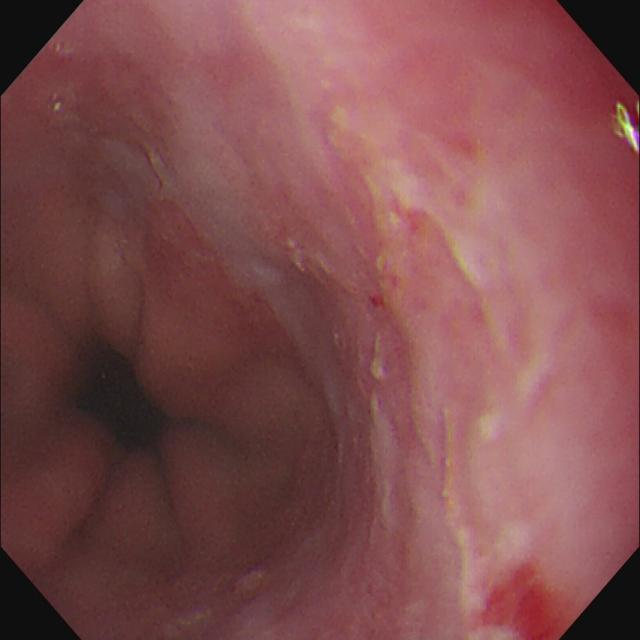A: (285, 236, 447, 605), (154, 230, 272, 331)
C: (476, 562, 574, 640), (370, 289, 392, 310)
E: (78, 346, 168, 445)
U: (611, 101, 640, 153)
